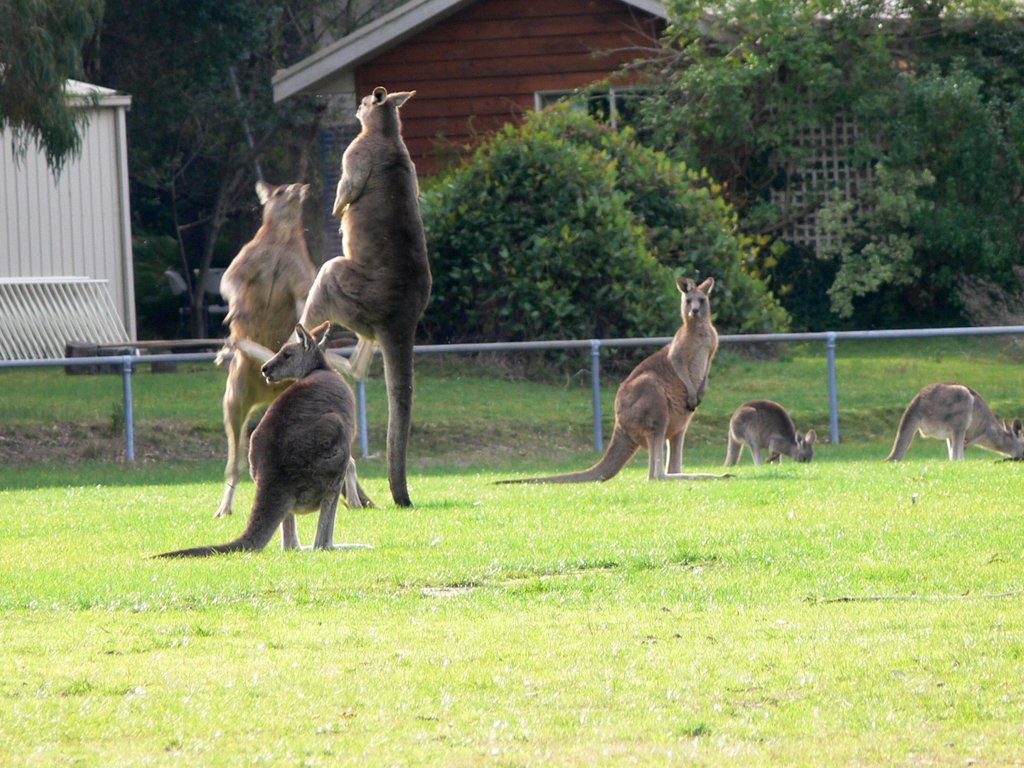kangaroo: (483, 279, 735, 483)
